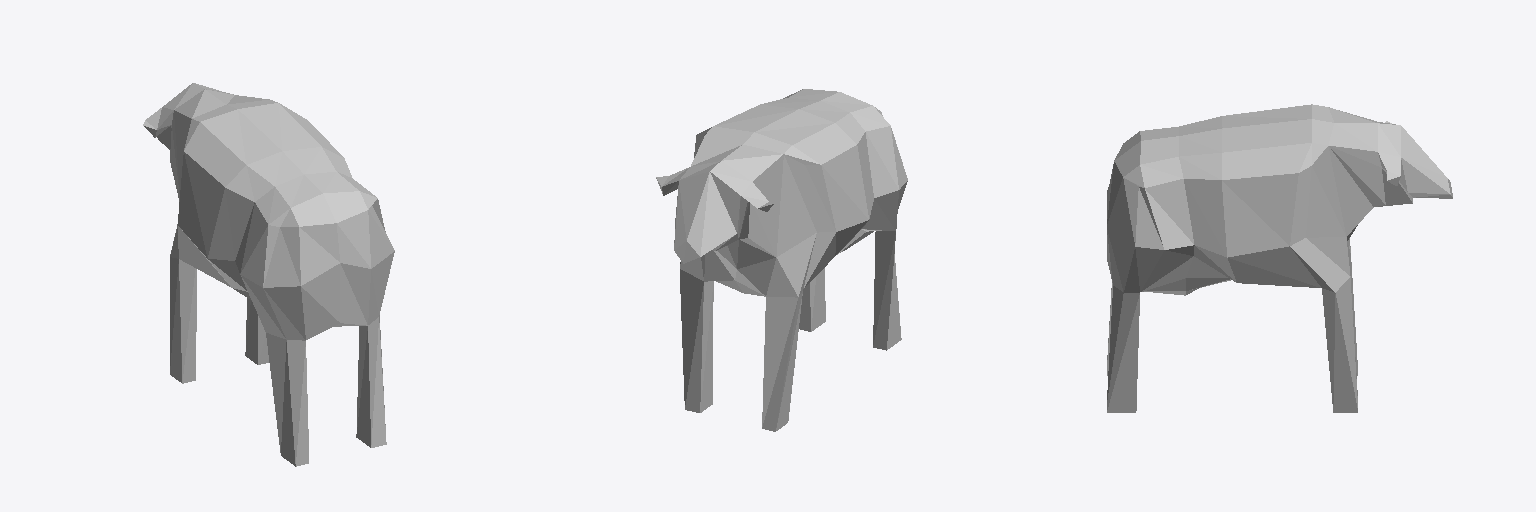
File: cow.obj
3 renders of one model, left to right at view 1: azimuth 30°, elevation 25°; view 2: azimuth 150°, elevation 25°; view 3: azimuth 270°, elevation 25°, orthographic.
Visible parts, largest first — view 1: Cube; view 2: Cube; view 3: Cube.
Part boxes in pixels (x1,y1,x2,y2): Cube: (143, 83, 394, 466); Cube: (656, 89, 907, 431); Cube: (1107, 104, 1452, 412).
Size of the model in its own units: 3.11 by 5.38 by 6.23.